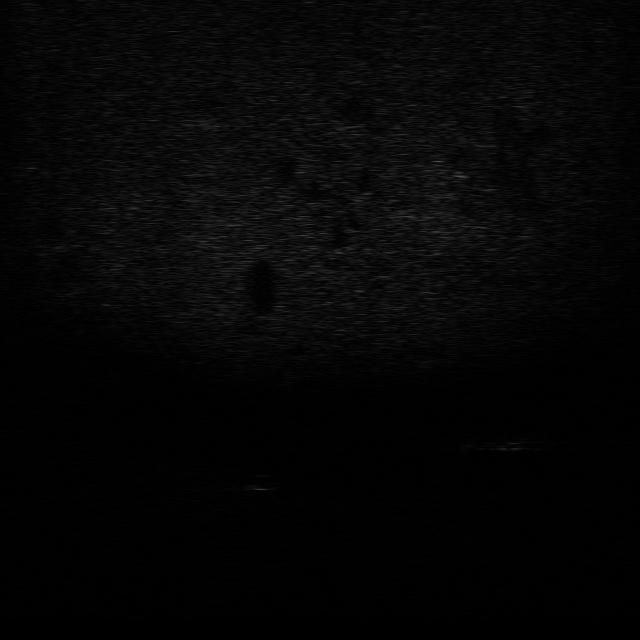ball: (240, 473, 282, 495)
human body: (448, 431, 558, 452)
